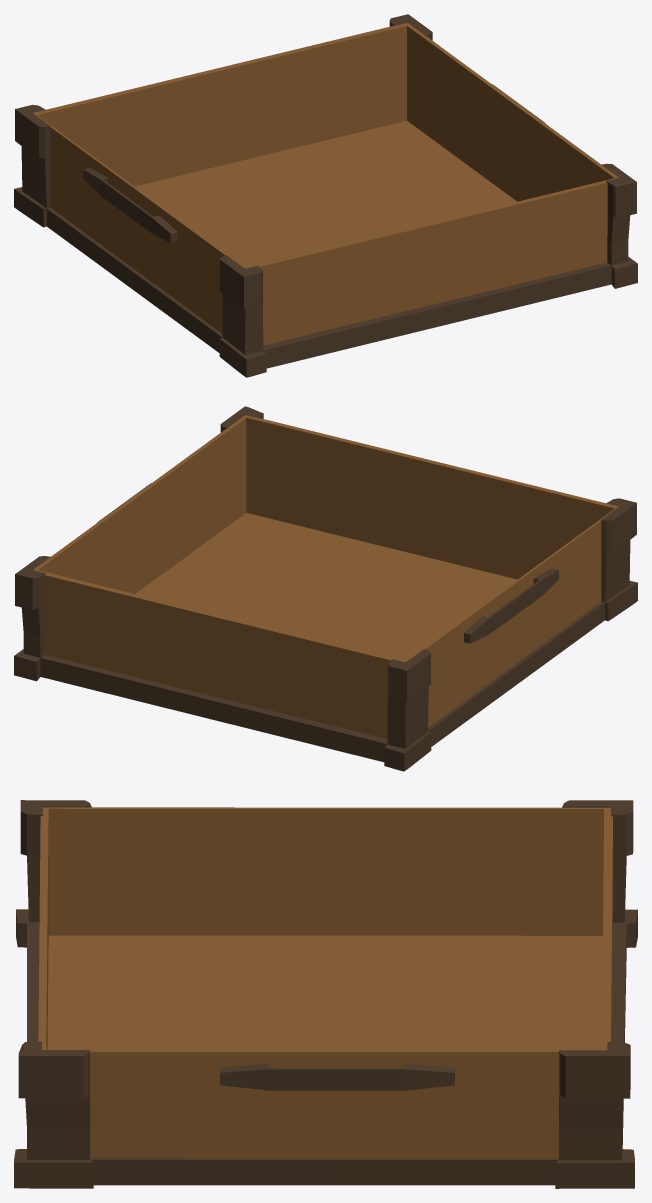
File: cagette.fbx
3 views of the same model, one above another, from view 1: azimuth 30°, elevation 25°; view 2: azimuth 150°, elevation 25°; view 3: azimuth 270°, elevation 25° (orthographic). The views are drawn at different scales.
Parts seen in each view (by area): view 1: Cagette_001; view 2: Cagette_001; view 3: Cagette_001.
Part boxes in pixels (<box>): Cagette_001: <box>14,14,637,377</box>; Cagette_001: <box>14,406,637,771</box>; Cagette_001: <box>14,800,637,1188</box>.
Bounding box in the file's own units: 108 × 26.33 × 111.
